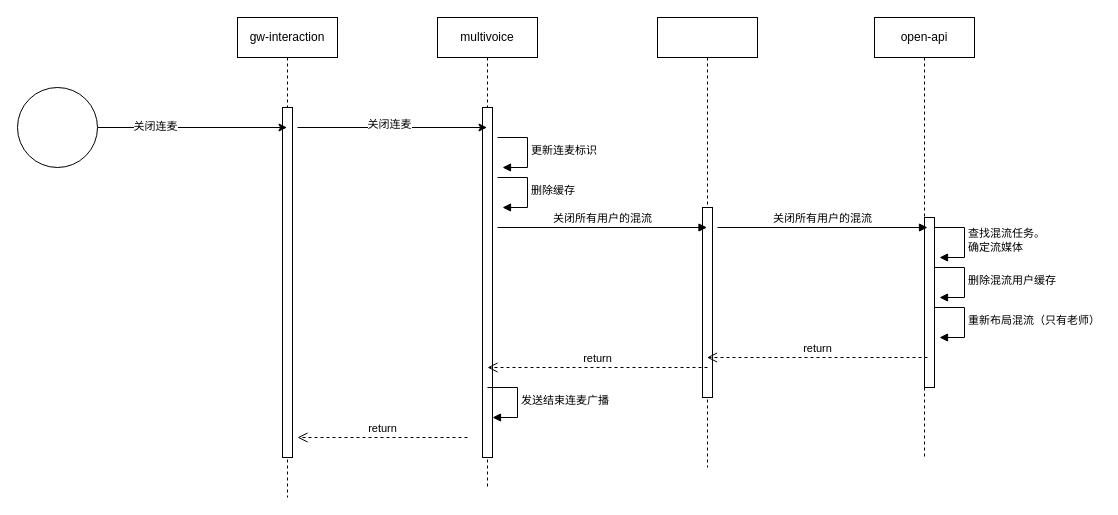
Some shapes in this 1118 by 515 pixel diagram are drawn without their labels. Each missing label, with the box of its shape:
mix-stream: (656, 16, 758, 468)
客户端: (16, 86, 98, 168)
